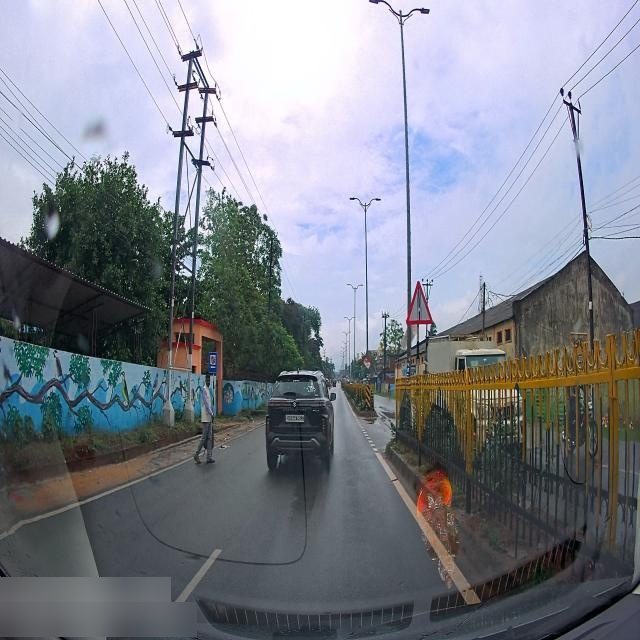pothole: (362, 413, 384, 426)
